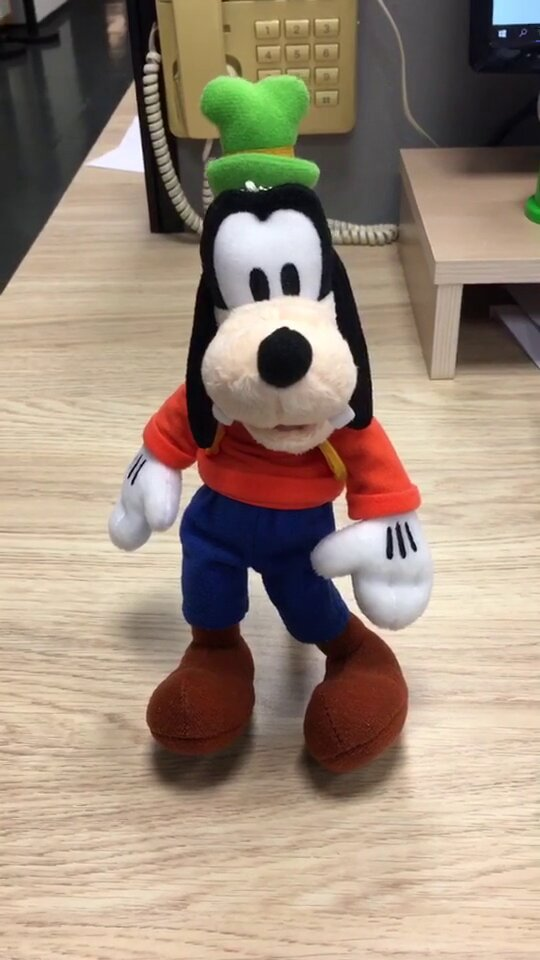goofy: (104, 72, 437, 773)
